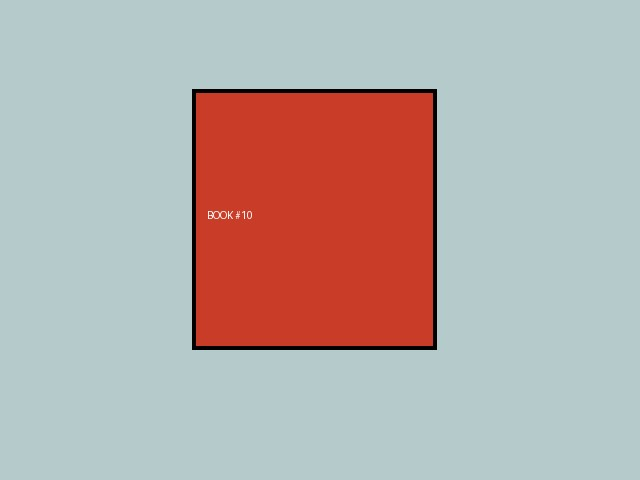book: (192, 89, 436, 349)
